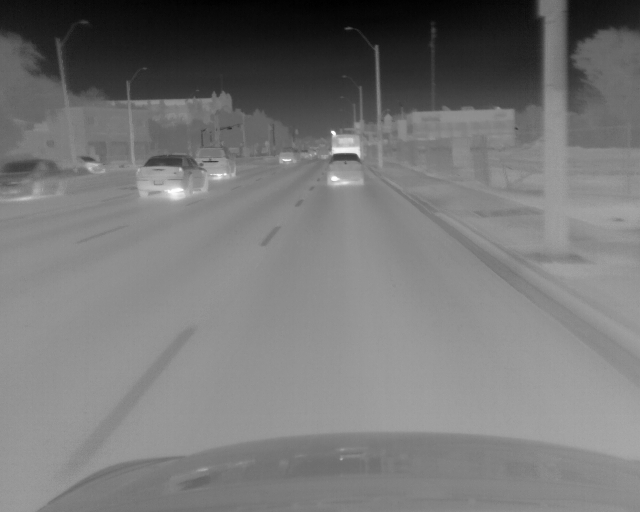car: (135, 155, 209, 200), (1, 157, 67, 204), (196, 147, 238, 180), (326, 153, 363, 186), (331, 134, 360, 159), (76, 153, 103, 176), (278, 148, 298, 164), (317, 147, 329, 161), (298, 148, 310, 159)
